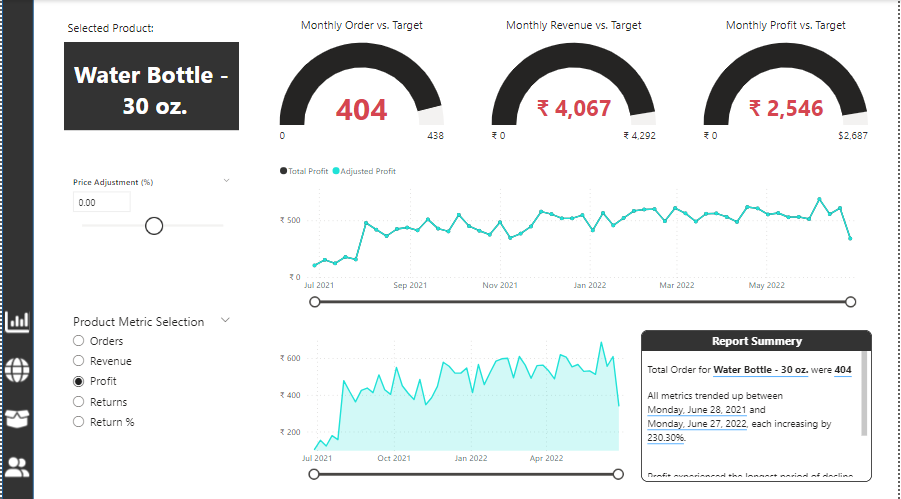

Layout of this report page (visuals, bound fields, positions):
{"tool":"powerbi","page":{"name":"Product Detail","canvas":[1280,720],"ordinal":2},"visuals":[{"type":"shape","box":[0,0,45,720],"z":0},{"type":"gauge","title":"Monthly Order vs. Target","fields":{"Y":["Measure Table.Total Orders"],"MaxValue":["Measure Table.Order Target"]},"box":[391.2,29.4,245,200],"z":1000},{"type":"gauge","title":"Monthly Revenue vs. Target","fields":{"Y":["Measure Table.Total Revenue"],"MaxValue":["Measure Table.Revenue Target"]},"box":[694.1,29.4,245,200],"z":2000},{"type":"gauge","title":"Monthly Profit vs. Target","fields":{"Y":["Measure Table.Total Profit"],"MaxValue":["Measure Table.Profit Target"]},"box":[997.1,29.4,245,200],"z":3000},{"type":"lineChart","title":"PROFIT TRENDING","fields":{"Category":["Calendar Lookup.Date Hierarchy.Year","Calendar Lookup.Date Hierarchy.Start of Month","Calendar Lookup.Date Hierarchy.Start of Week","Calendar Lookup.Date Hierarchy.Date"],"Y":["Measure Table.Total Profit","Measure Table.Adjusted Profit"]},"box":[391.2,229.4,851.5,217.6],"z":4000},{"type":"areaChart","title":"RETURN TRENDING","fields":{"Y":["Measure Table.Total Profit"],"Category":["Calendar Lookup.Date Hierarchy.Year","Calendar Lookup.Date Hierarchy.Start of Month","Calendar Lookup.Date Hierarchy.Start of Week","Calendar Lookup.Date Hierarchy.Date"]},"box":[391.7,476.6,519.8,217.4],"z":5000},{"type":"card","fields":{"Values":["Min(Product Lookup.ProductName)"]},"box":[88.2,66.2,250,126.5],"z":6000},{"type":"textbox","box":[88.2,29.4,175,52.9],"z":7000},{"type":"group","id":"g1","title":"Navigation Button","box":[0,444.1,43,250.4],"z":8000},{"type":"actionButton","box":[0,444.1,43,43],"z":8000,"group":"g1"},{"type":"slicer","fields":{"Values":["Price Adjustment (%).Price Adjustment (%)"]},"box":[88.2,251.5,250,129.4],"z":9000},{"type":"actionButton","box":[0,651.5,43,43],"z":9000,"group":"g1"},{"type":"slicer","fields":{"Values":["Product Metric Selection.Product Metric Selection"]},"box":[88.2,447.1,250,179.4],"z":10000},{"type":"actionButton","box":[0,513.2,43,43],"z":10000,"group":"g1"},{"type":"textbox","title":"Report Summery","box":[913,476.6,329.8,217.4],"z":11000},{"type":"actionButton","box":[0,582.3,43,43],"z":11000,"group":"g1"}]}

Visuals, with their boxes on the page's 1280x720 design canvas (x1, y1, x2, y2). These are canvas units, not pixel positions in the 901x499 screenshot, which may show the page scaled, cropped or inside an application window:
shape: Rect(0, 0, 45, 720)
"Monthly Order vs. Target" gauge: Rect(391, 29, 636, 229)
"Monthly Revenue vs. Target" gauge: Rect(694, 29, 939, 229)
"Monthly Profit vs. Target" gauge: Rect(997, 29, 1242, 229)
"PROFIT TRENDING" lineChart: Rect(391, 229, 1243, 447)
"RETURN TRENDING" areaChart: Rect(392, 477, 912, 694)
card - Min(Product Lookup.ProductName): Rect(88, 66, 338, 193)
textbox: Rect(88, 29, 263, 82)
"Navigation Button" group: Rect(0, 444, 43, 694)
actionButton: Rect(0, 444, 43, 487)
slicer - Price Adjustment (%).Price Adjustment (%): Rect(88, 252, 338, 381)
actionButton: Rect(0, 652, 43, 694)
slicer - Product Metric Selection.Product Metric Selection: Rect(88, 447, 338, 626)
actionButton: Rect(0, 513, 43, 556)
"Report Summery" textbox: Rect(913, 477, 1243, 694)
actionButton: Rect(0, 582, 43, 625)
